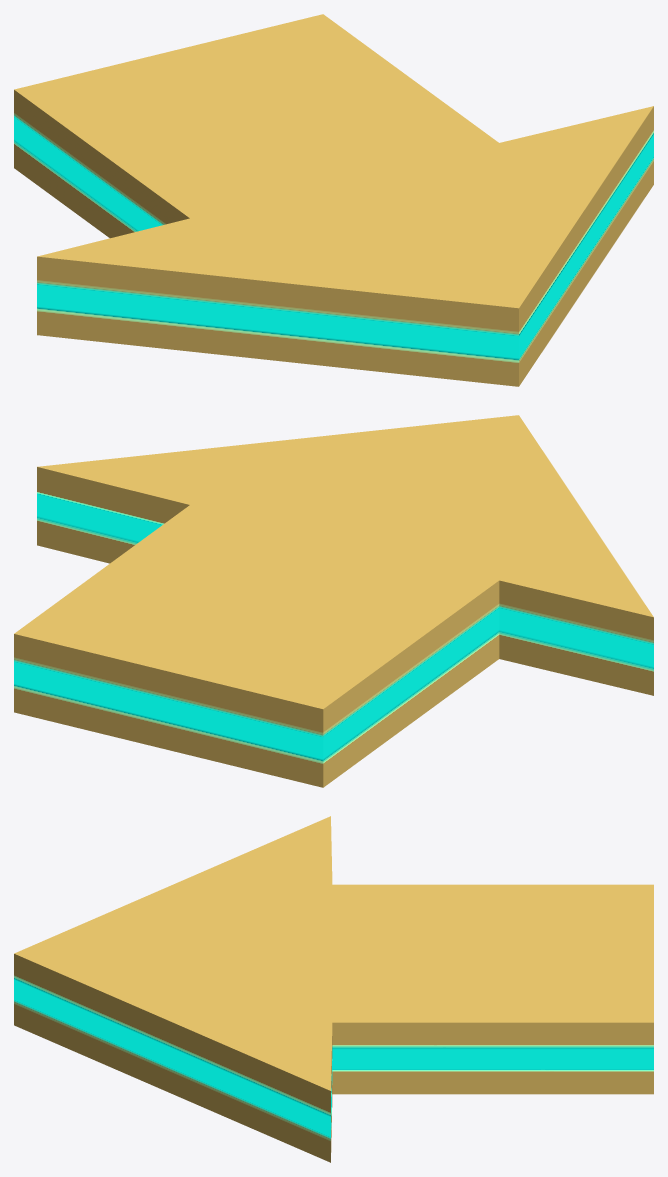
File: arrow.gltf
3 views of the same model, one above another, from view 1: azimuth 30°, elevation 25°; view 2: azimuth 150°, elevation 25°; view 3: azimuth 270°, elevation 25° (orthographic). The views are drawn at different scales.
Visible parts, largest first — view 1: Object_2; view 2: Object_2; view 3: Object_2.
Part boxes in pixels (box(x1,y1,x2,y2)): Object_2: box(14, 14, 653, 386); Object_2: box(14, 415, 653, 787); Object_2: box(14, 816, 653, 1162).
Bounding box in the file's own units: 6.26 × 0.762 × 6.16.
Materials: 1 (1 with a texture image).
